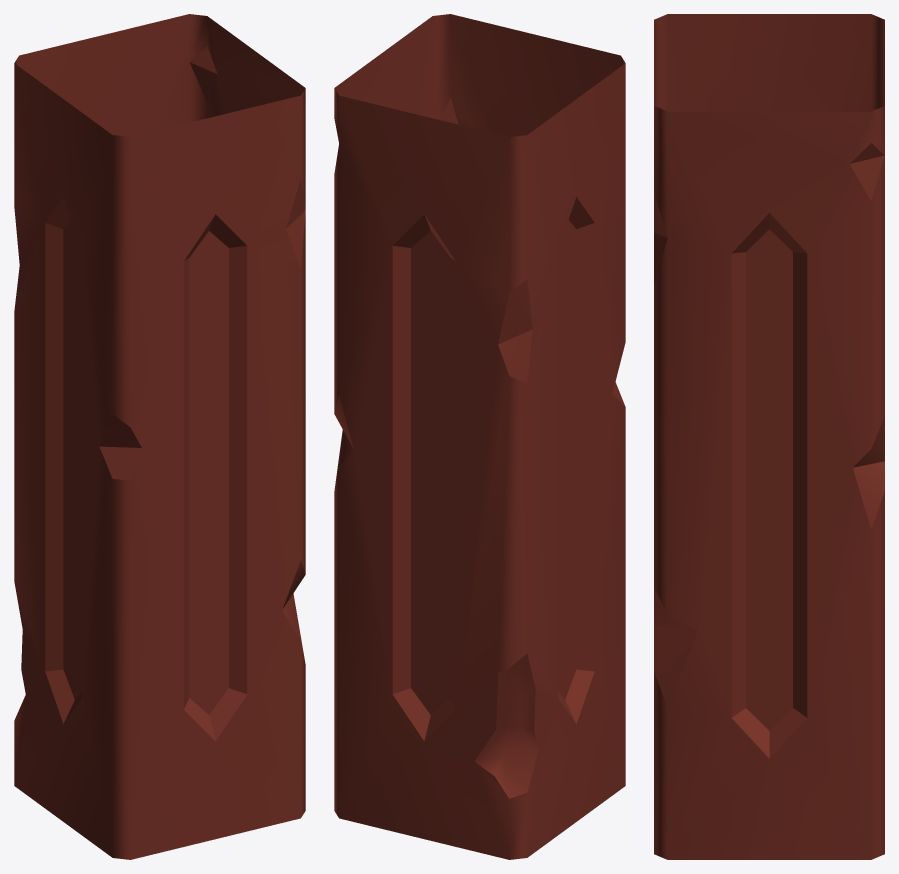
File: pillar_014.fbx
The picture shows the model from 3 angles, left to right: view 1: azimuth 30°, elevation 25°; view 2: azimuth 150°, elevation 25°; view 3: azimuth 270°, elevation 25°; orthographic projection. The views are drawn at different scales.
Parts seen in each view (by area): view 1: pillar_014; view 2: pillar_014; view 3: pillar_014.
Boxes of the visible parts, <box> form: pillar_014: <box>14,14,305,859</box>; pillar_014: <box>334,14,625,859</box>; pillar_014: <box>654,14,884,859</box>.
Size of the model in its own units: 279 by 279 by 1000.
